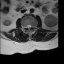CCS_normal: (28, 23, 29, 32)
LFS_normal: (31, 23, 33, 29)
LLS_normal: (29, 23, 31, 30)
RFS_stenosis: (24, 24, 26, 29)
RLS_normal: (26, 23, 28, 30)
